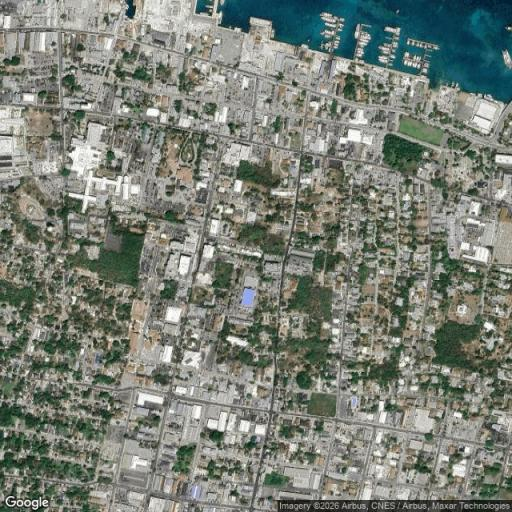ship: (321, 12, 346, 22), (502, 50, 512, 68), (384, 26, 400, 35), (321, 16, 336, 24), (377, 45, 390, 51), (358, 40, 369, 47), (377, 53, 388, 60), (355, 24, 360, 39), (218, 10, 223, 25), (377, 58, 387, 65), (325, 22, 336, 28), (324, 29, 335, 35), (360, 35, 373, 40), (219, 0, 226, 8), (379, 50, 390, 55), (360, 39, 370, 44), (204, 4, 214, 9), (383, 42, 391, 48), (356, 51, 365, 56), (402, 59, 408, 66), (406, 60, 411, 68), (505, 25, 511, 31), (405, 40, 411, 46), (356, 54, 363, 59), (324, 34, 332, 38), (357, 47, 365, 51), (433, 46, 440, 50), (409, 61, 413, 68), (334, 40, 341, 44), (390, 55, 397, 59), (395, 10, 400, 15), (411, 41, 415, 47), (416, 42, 420, 48), (420, 43, 424, 49), (423, 44, 427, 50), (413, 54, 417, 60), (412, 61, 415, 68), (415, 62, 418, 69), (335, 37, 342, 40), (339, 23, 346, 26), (392, 45, 399, 48), (394, 37, 401, 40), (338, 28, 343, 32), (418, 64, 421, 70), (333, 46, 339, 49), (332, 44, 340, 46), (416, 55, 419, 60), (389, 63, 393, 66)
